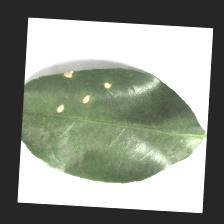canker: (42, 66, 120, 122)
